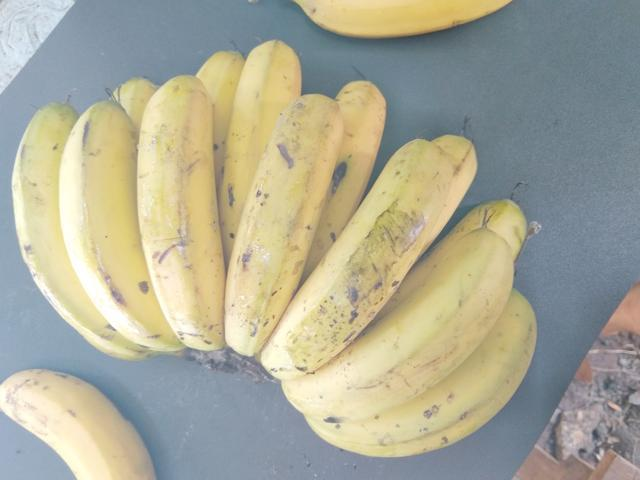freshripe: (11, 357, 175, 479), (319, 0, 537, 69)
ripe: (227, 137, 454, 382), (282, 237, 513, 427), (125, 58, 253, 356), (206, 86, 344, 350), (49, 89, 151, 363)
